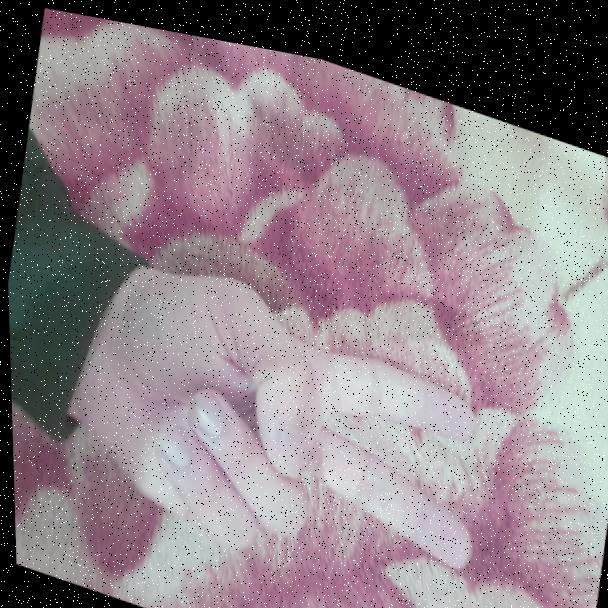two: (78, 219, 508, 608)
